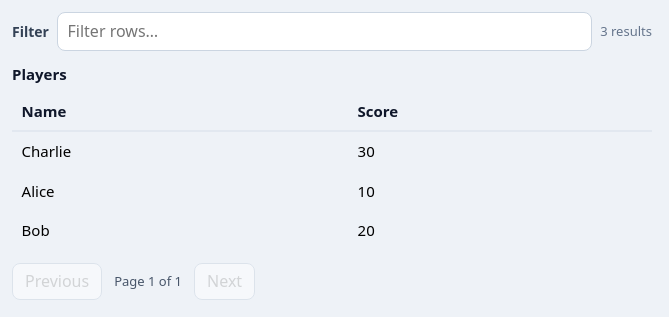
DataTable › filters rows by query and reports the count
This screenshot has width=669, height=317.
Type "ali" into the search field labelled "Filter" at (325, 31), box [57,12,592,51]
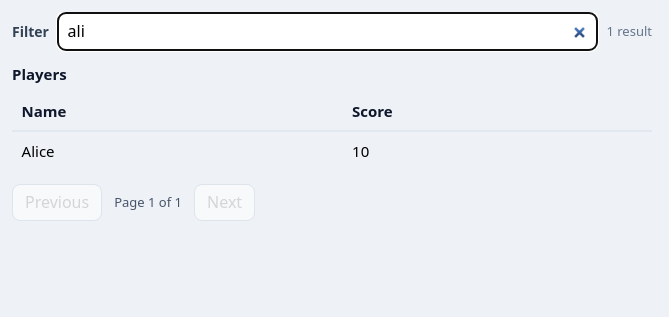
Expected: the message reads "1 result", [606,22,652,41]
